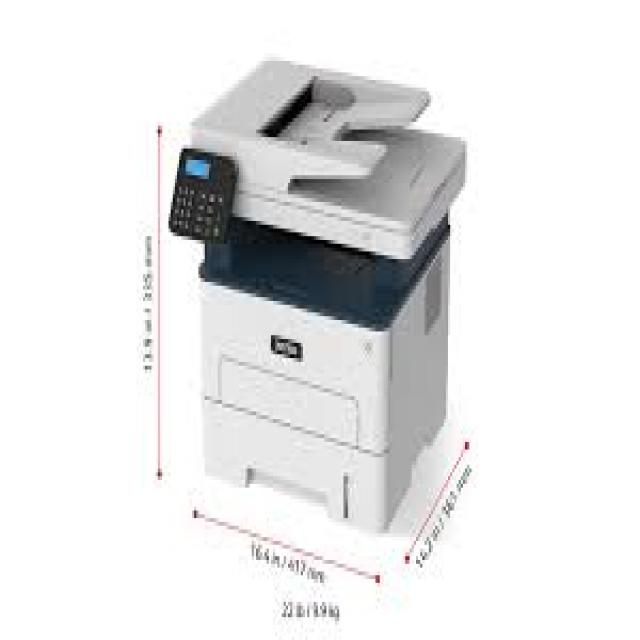printer: (91, 34, 524, 570)
